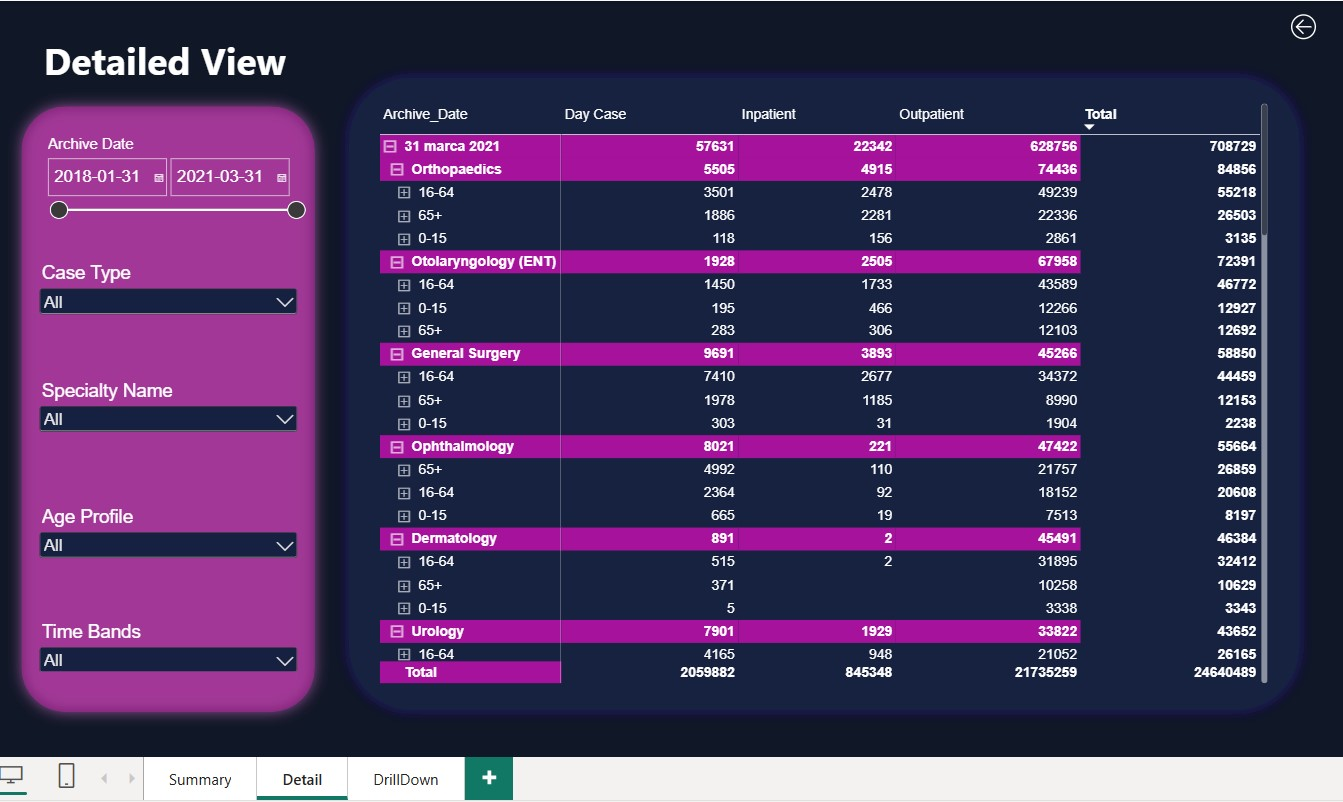

What the dashboard file says about the page in this screenshot:
{"tool":"powerbi","page":{"name":"Detail","canvas":[1920,1080],"ordinal":1},"visuals":[{"type":"shape","box":[10.7,129.7,459,905.7],"z":0},{"type":"shape","box":[478,90,1398,944],"z":1000},{"type":"slicer","fields":{"Values":["All_Data.Archive_Date"]},"box":[60,192.5,378.8,158.8],"z":2000},{"type":"slicer","fields":{"Values":["All_Data.Case_Type"]},"box":[51.2,372.5,378,84],"z":3000},{"type":"slicer","fields":{"Values":["All_Data.Specialty_Name"]},"box":[51.2,541.7,378,94],"z":4000},{"type":"textbox","box":[61.7,47.3,377,83],"z":5000},{"type":"slicer","fields":{"Values":["All_Data.Age_Profile"]},"box":[51.2,720.8,378,80],"z":6000},{"type":"slicer","fields":{"Values":["All_Data.Time_Bands"]},"box":[51.2,886,378,72],"z":7000},{"type":"pivotTable","fields":{"Columns":["All_Data.Case_Type"],"Rows":["All_Data.Archive_Date","All_Data.Specialty_Name","All_Data.Age_Profile","All_Data.Time_Bands"],"Values":["Sum(All_Data.Total)"]},"box":[526,132,1300,858],"z":8000},{"type":"actionButton","box":[1806,0,114,74],"z":9000}]}

Visuals, with their boxes on the page's 1920x1080 design canvas (x1, y1, x2, y2). These are canvas units, not pixel positions in the 1343x802 screenshot, which may show the page scaled, cropped or inside an application window:
shape: [11,130,470,1035]
shape: [478,90,1876,1034]
slicer - All_Data.Archive_Date: [60,192,439,351]
slicer - All_Data.Case_Type: [51,372,429,456]
slicer - All_Data.Specialty_Name: [51,542,429,636]
textbox: [62,47,439,130]
slicer - All_Data.Age_Profile: [51,721,429,801]
slicer - All_Data.Time_Bands: [51,886,429,958]
pivotTable - All_Data.Case_Type x All_Data.Archive_Date: [526,132,1826,990]
actionButton: [1806,0,1920,74]
